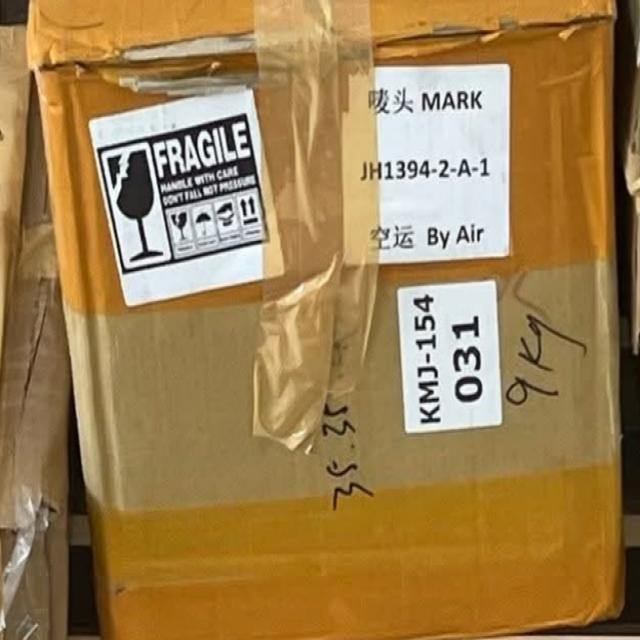carton_box: (17, 0, 640, 640)
export_mark_label: (338, 60, 516, 264)
fragile_label: (100, 135, 169, 271), (149, 113, 257, 178), (164, 208, 192, 255)
keep_dry_label: (192, 205, 216, 243)
package_damage: (27, 0, 630, 106)
this_side_up_label: (238, 186, 265, 234)
